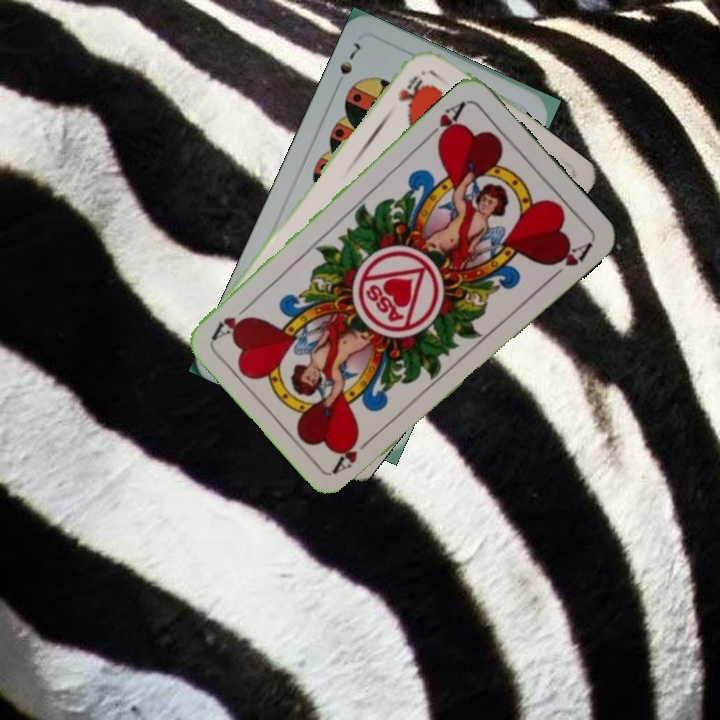HA: (422, 97, 469, 146), (329, 430, 378, 475)
HO: (394, 71, 426, 109)
S7: (335, 37, 363, 77)
